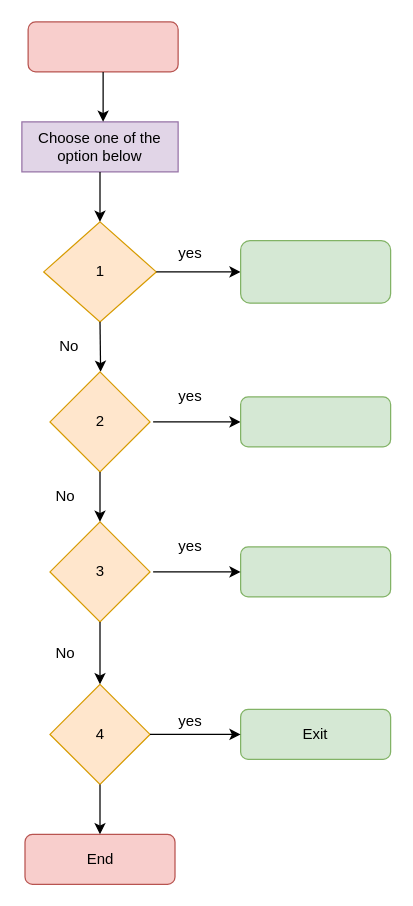
This 413x906 diagram has some shape labels left out. The centre of each missing label's shape, as x and y in pixels:
"Check Balance" goes at point 315,271.
"Deposit" goes at point 315,421.
"Welcome to ATM" goes at point 102,46.
"Withdraw" goes at point 315,571.
